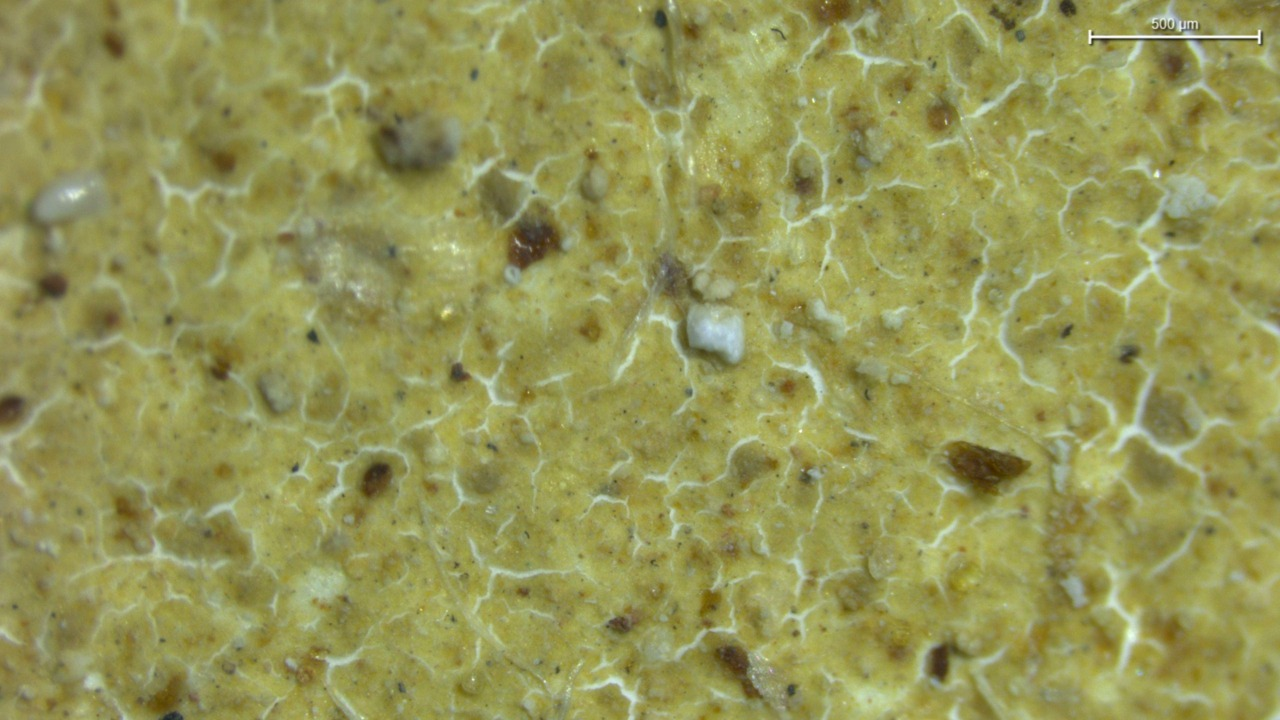microplastic_fragment: (687, 303, 744, 364)
